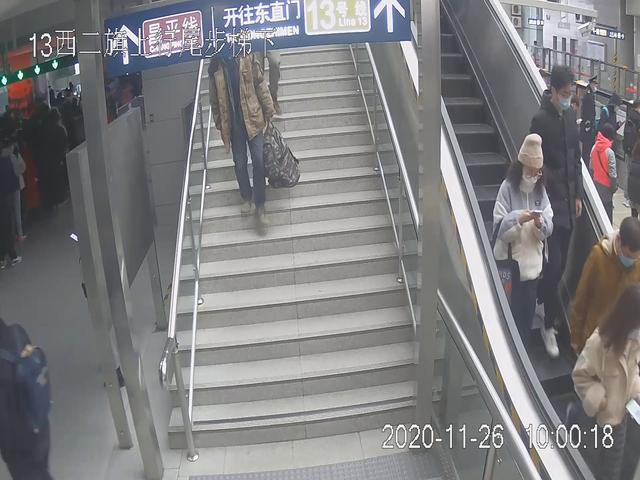person: (199, 29, 303, 239), (524, 62, 586, 364), (564, 213, 640, 413), (565, 281, 640, 480), (491, 126, 554, 357)
